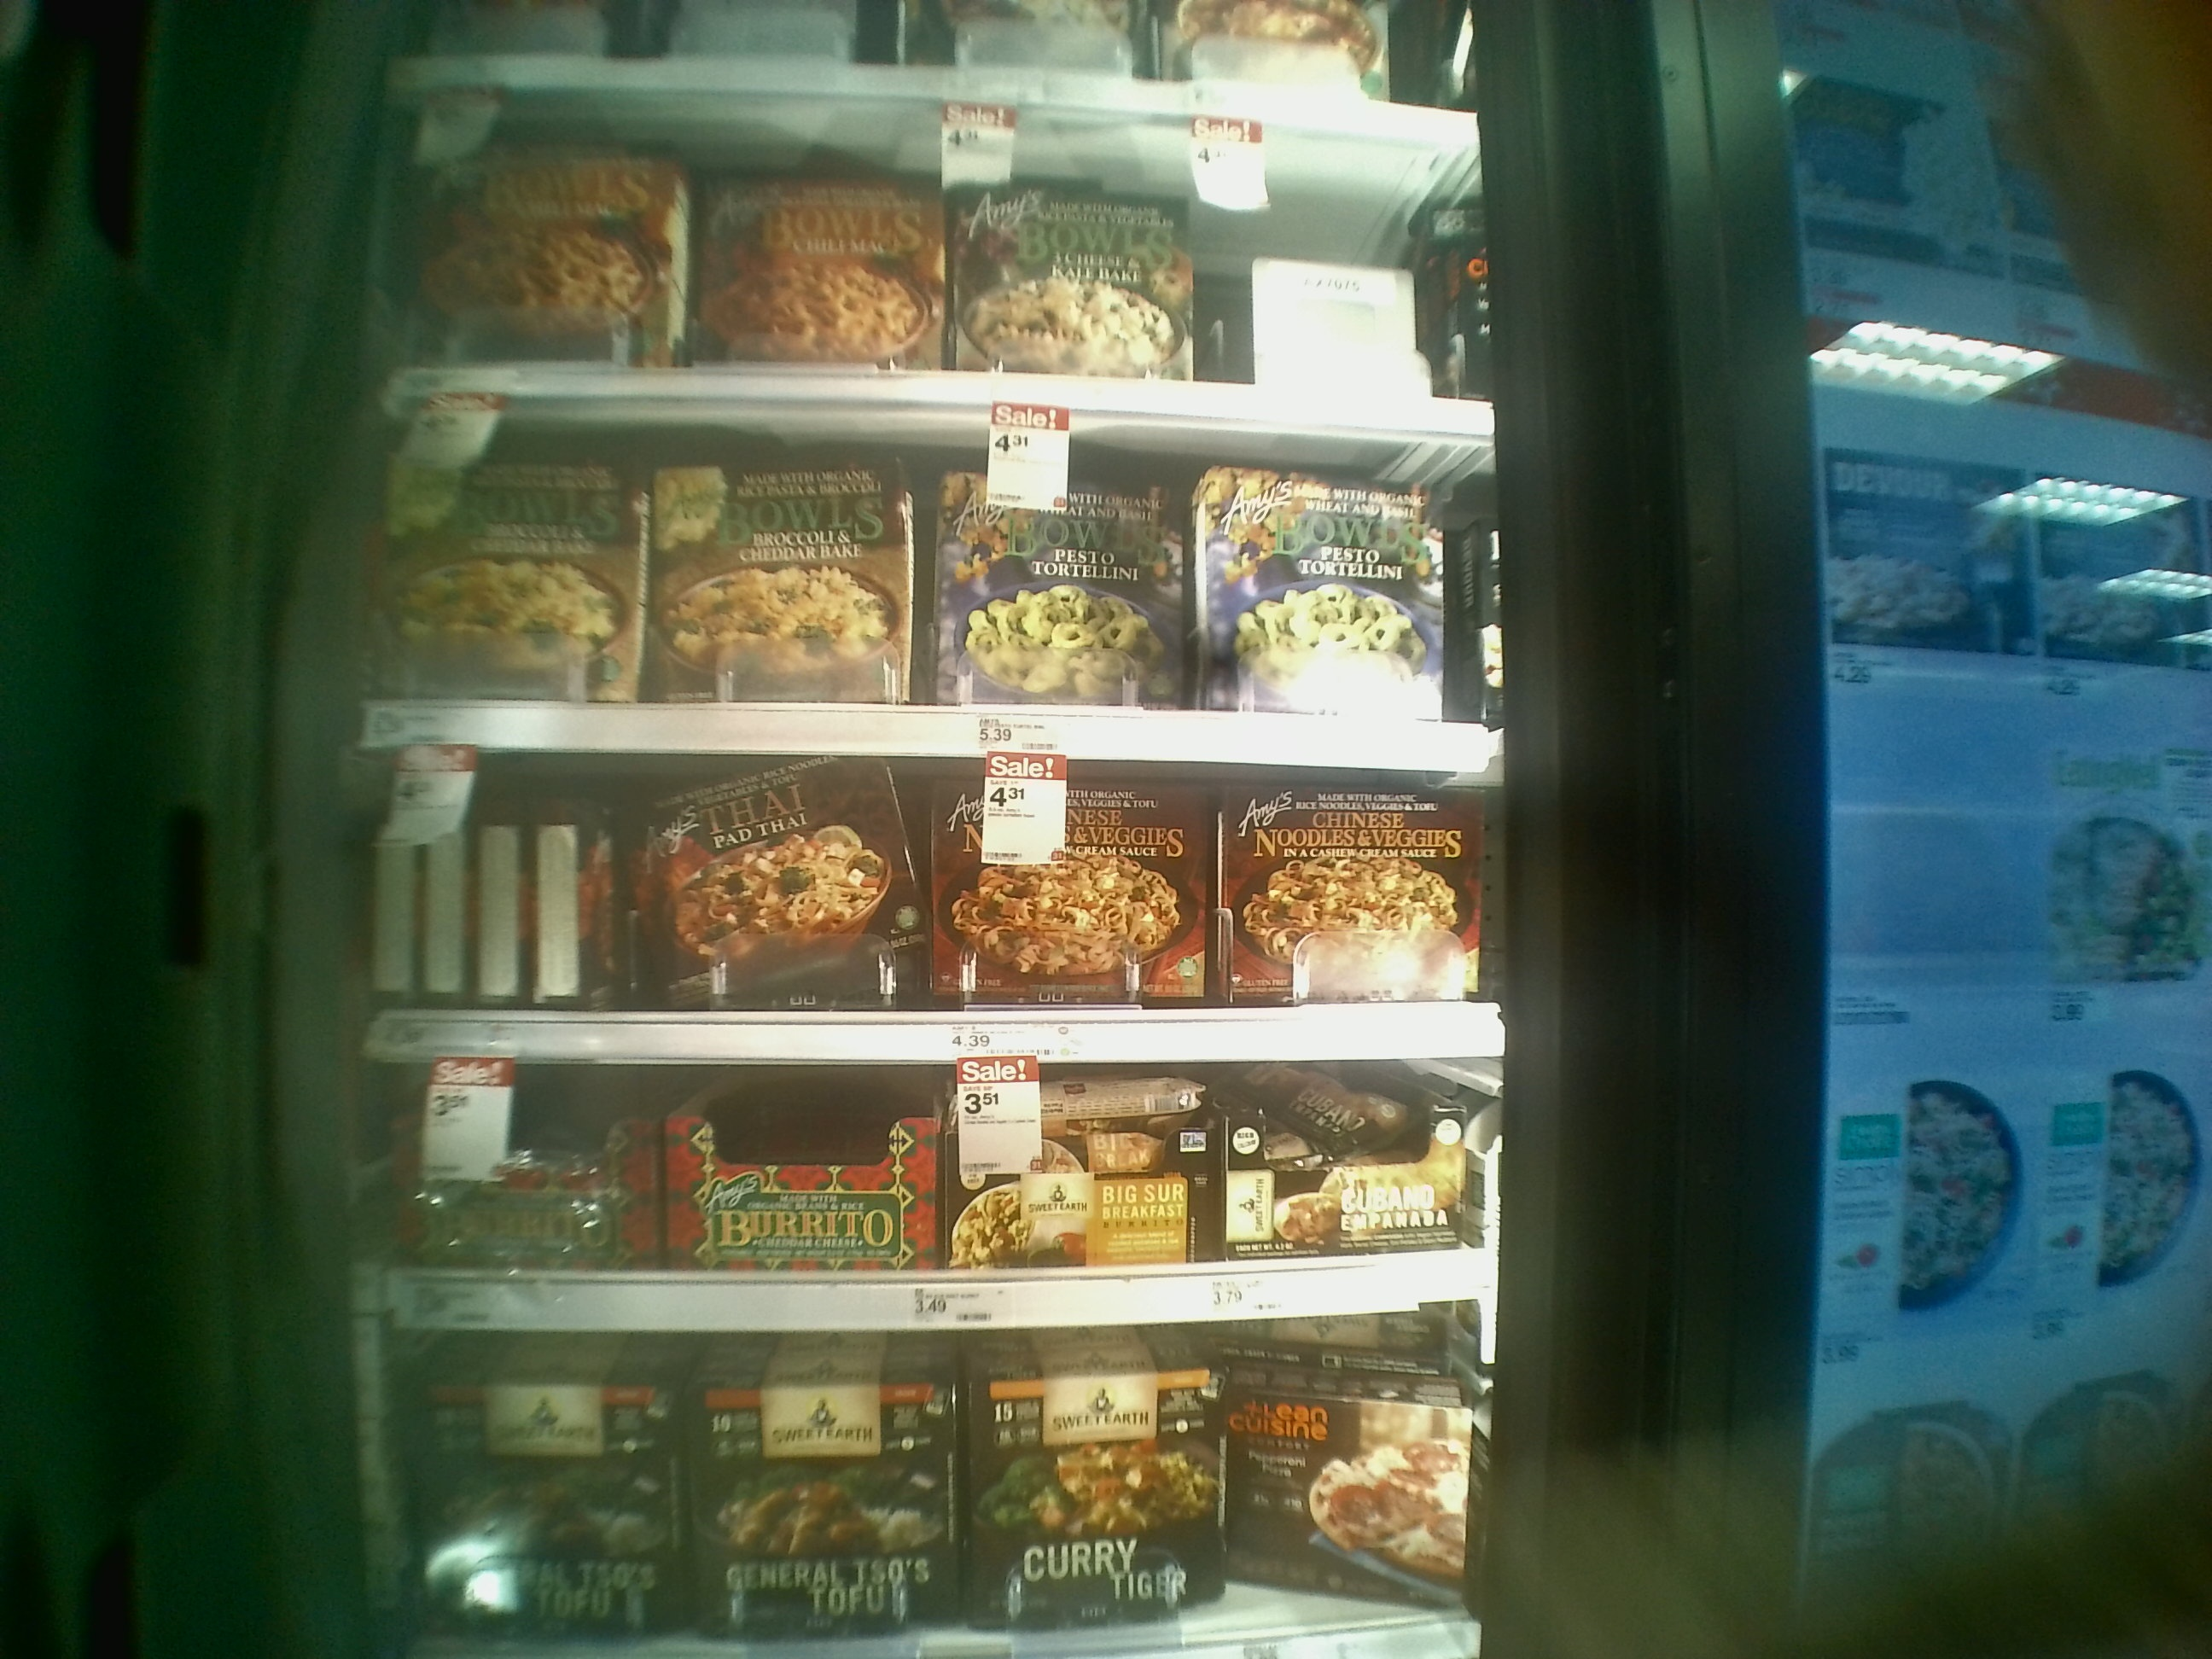shelf: (348, 1317, 1479, 1659), (374, 87, 1498, 430), (361, 418, 1498, 742), (361, 728, 1496, 1040), (366, 1047, 1494, 1310)
